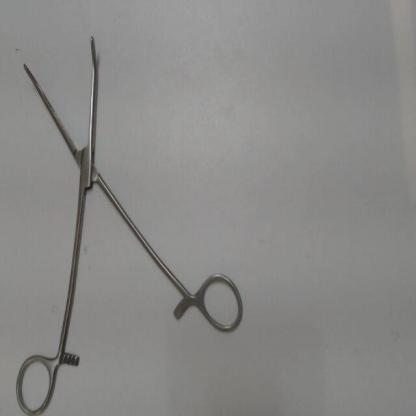Lahey Forceps: (6, 25, 250, 416)
